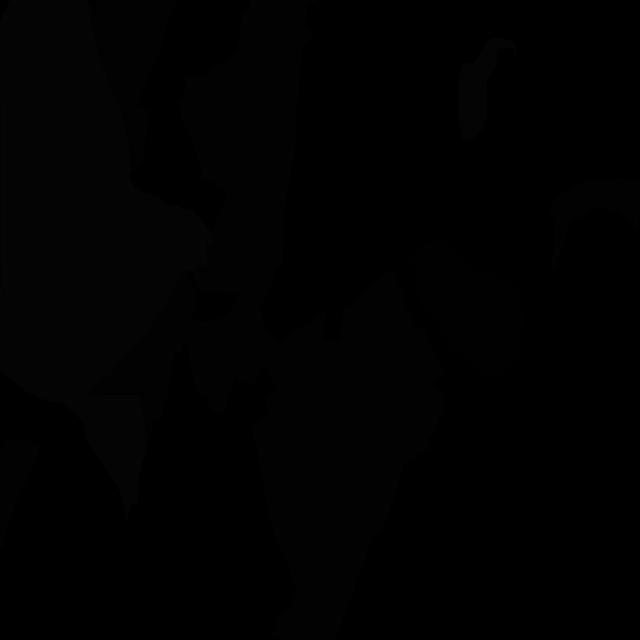cardboard: (252, 271, 445, 640), (176, 0, 321, 342), (88, 270, 196, 448), (184, 308, 326, 416), (88, 0, 179, 143), (550, 177, 640, 272), (0, 441, 41, 550), (129, 102, 149, 177)
rigid_plastic: (409, 239, 523, 378)
soft_plastic: (0, 283, 146, 521), (458, 38, 516, 141)
